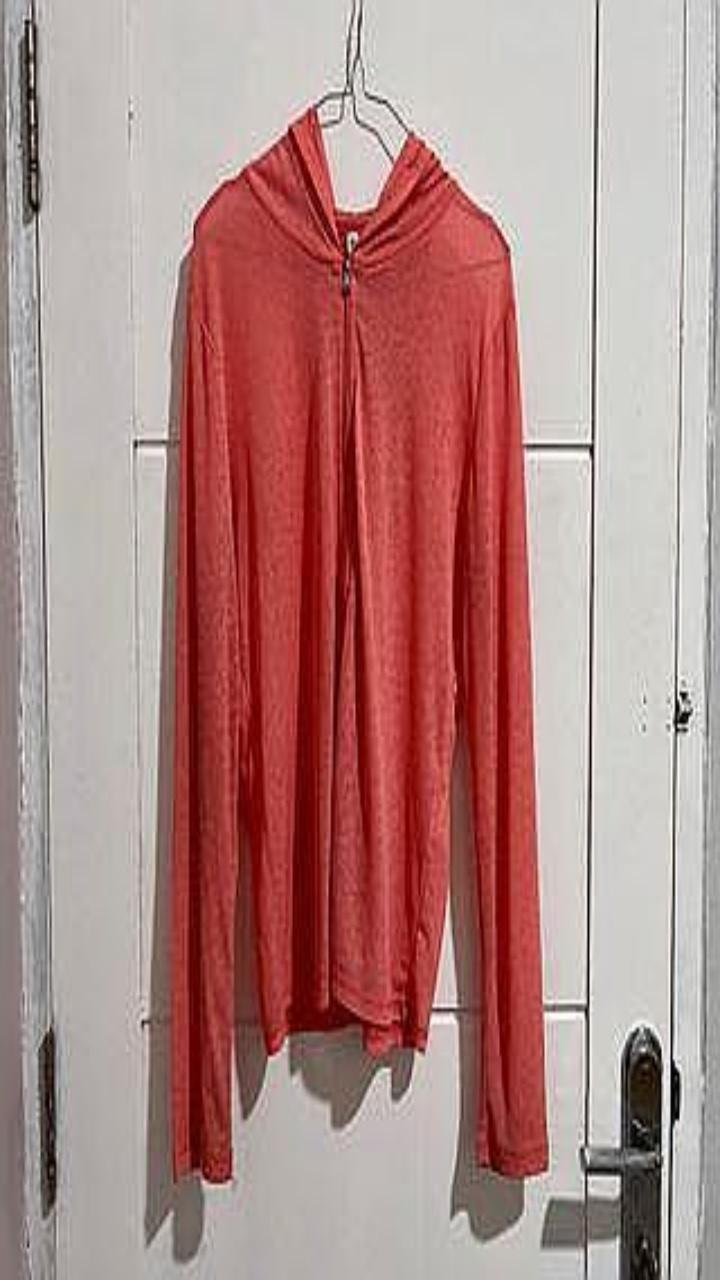Hoodie: (171, 105, 547, 1181)
